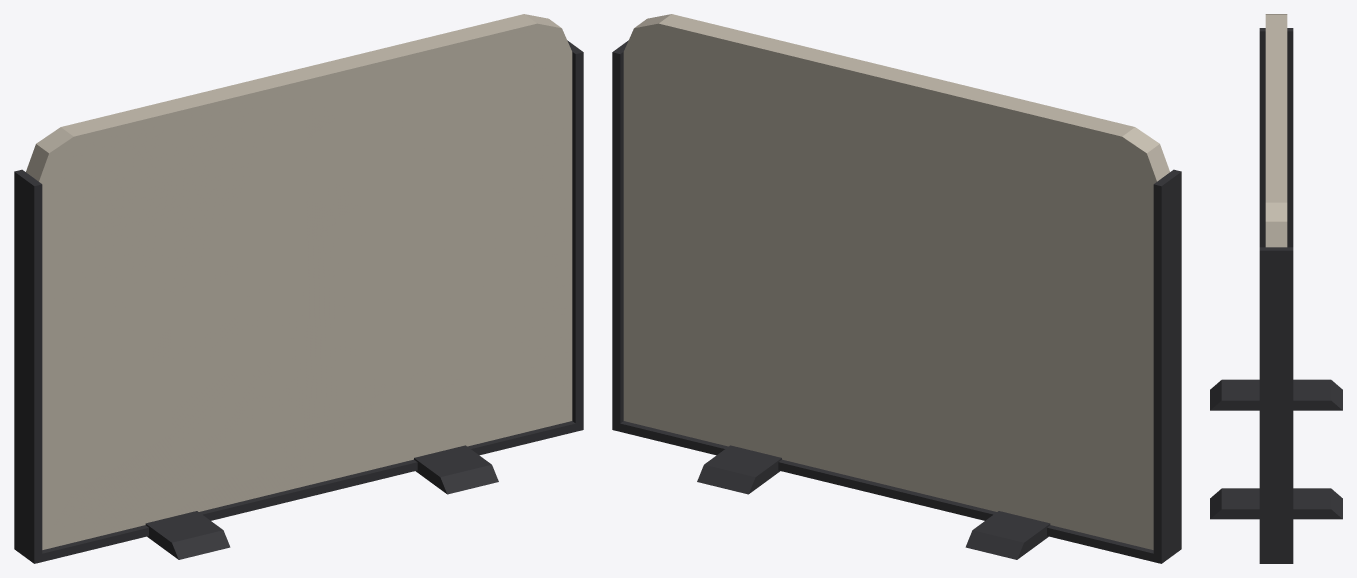
The model's file is 08_divider_black_low_half.glb.
3 views of the same model, side by side, from view 1: azimuth 30°, elevation 25°; view 2: azimuth 150°, elevation 25°; view 3: azimuth 270°, elevation 25° (orthographic). The views are drawn at different scales.
Parts seen in each view (by area): view 1: PartitionDestructible_Part_001.001, Panel_fragment_2, Panel_fragment_3, Panel_fragment_1, Attachment_02_fragment_3, Attachment_02, Attachment_03_fragment_1; view 2: PartitionDestructible_Part_001.001, Panel_fragment_2, Panel_fragment_3, Panel_fragment_1, Attachment_02, Attachment_02_fragment_3, Attachment_03; view 3: PartitionDestructible_Part_001.001, Attachment_02_fragment_3, Attachment_01, Panel_fragment_2, Attachment_03, Panel_fragment_3, Attachment_01_fragment_3, Panel_fragment_1, Attachment_03_fragment_1.
Part boxes in pixels (x1,y1,x2,y2): PartitionDestructible_Part_001.001: [14, 14, 583, 563]; Panel_fragment_2: [144, 56, 432, 504]; Panel_fragment_3: [376, 14, 572, 452]; Panel_fragment_1: [27, 107, 167, 549]; Attachment_02_fragment_3: [28, 42, 583, 563]; Attachment_02: [14, 42, 582, 561]; Attachment_03_fragment_1: [415, 445, 498, 493]; PartitionDestructible_Part_001.001: [612, 14, 1181, 563]; Panel_fragment_2: [763, 52, 1050, 509]; Panel_fragment_3: [623, 14, 825, 452]; Panel_fragment_1: [989, 109, 1153, 549]; Attachment_02: [612, 41, 872, 485]; Attachment_02_fragment_3: [612, 42, 1174, 535]; Attachment_03: [697, 458, 781, 494]; PartitionDestructible_Part_001.001: [1210, 14, 1342, 563]; Attachment_02_fragment_3: [1259, 28, 1293, 247]; Attachment_01: [1210, 379, 1342, 410]; Panel_fragment_2: [1265, 48, 1287, 139]; Attachment_03: [1210, 488, 1342, 519]; Panel_fragment_3: [1265, 140, 1287, 246]; Attachment_01_fragment_3: [1210, 379, 1328, 410]; Panel_fragment_1: [1265, 15, 1287, 48]; Attachment_03_fragment_1: [1210, 497, 1342, 519].
Bounding box in the file's own units: 2.07 × 1.5 × 0.523.
